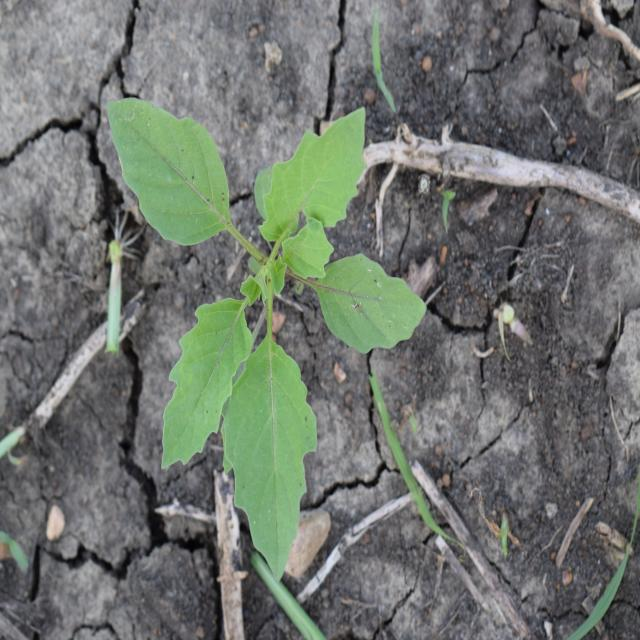CutleafGroundcherry: (105, 93, 428, 586)
